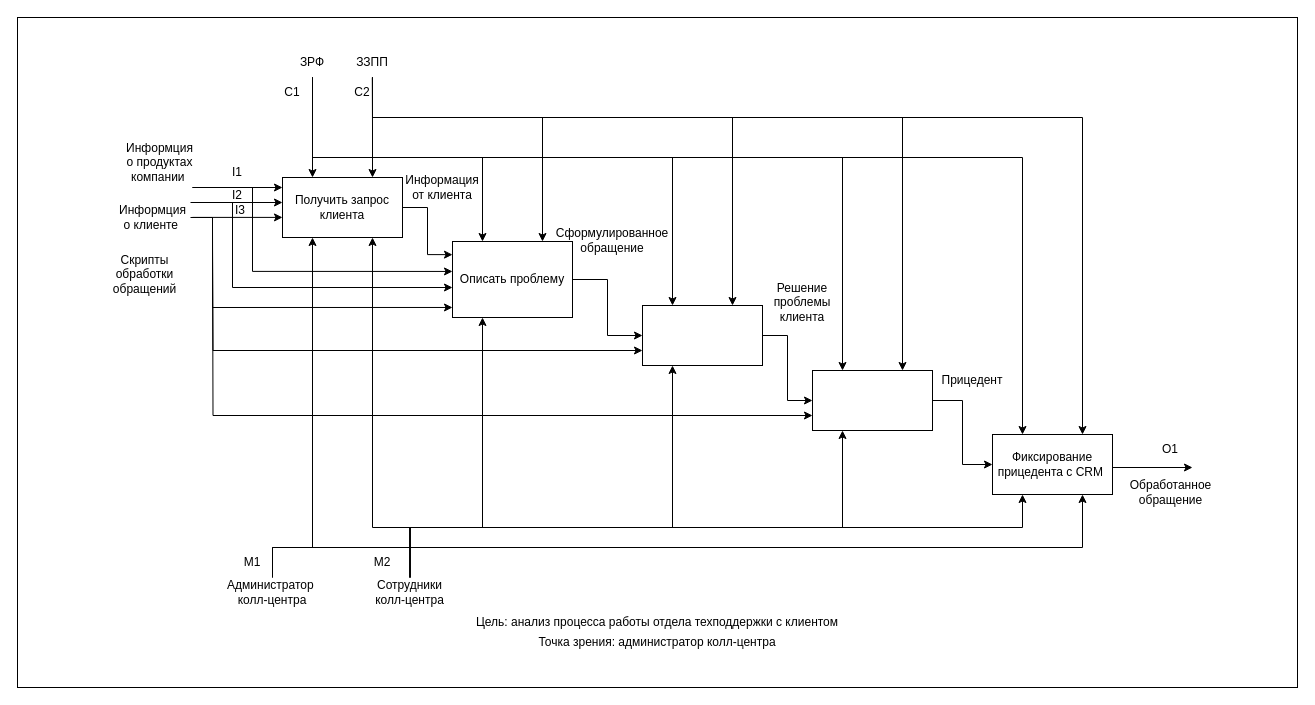
Image size: 1315x705. Some labels were removed from this diagram. Here are the shapes that lost their labels. From the top down, the centre of each, then its label:
(x=702, y=335): Выработать решение и проработать его с клиентом
(x=872, y=400): Получение обатной связи от клиента
